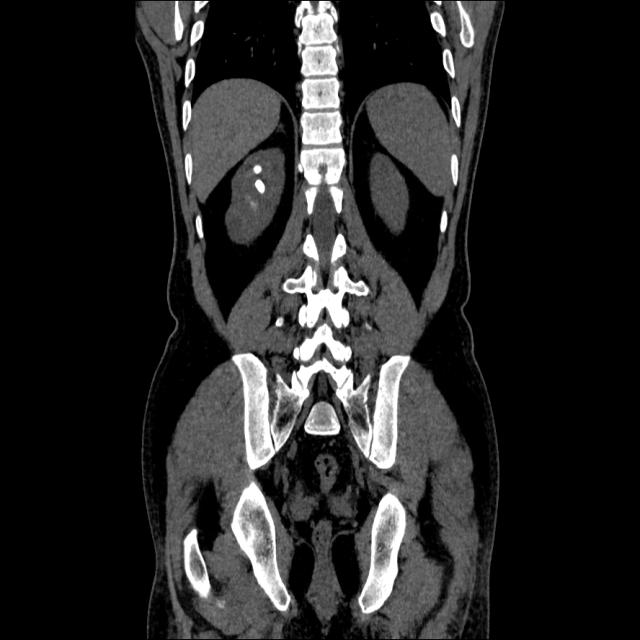kidneystone: (256, 179, 265, 193), (254, 164, 262, 174)
